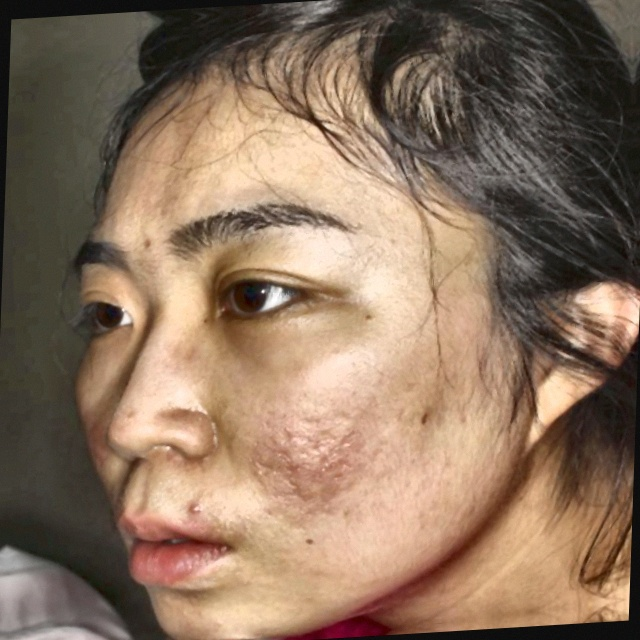comedone: (174, 490, 209, 520)
